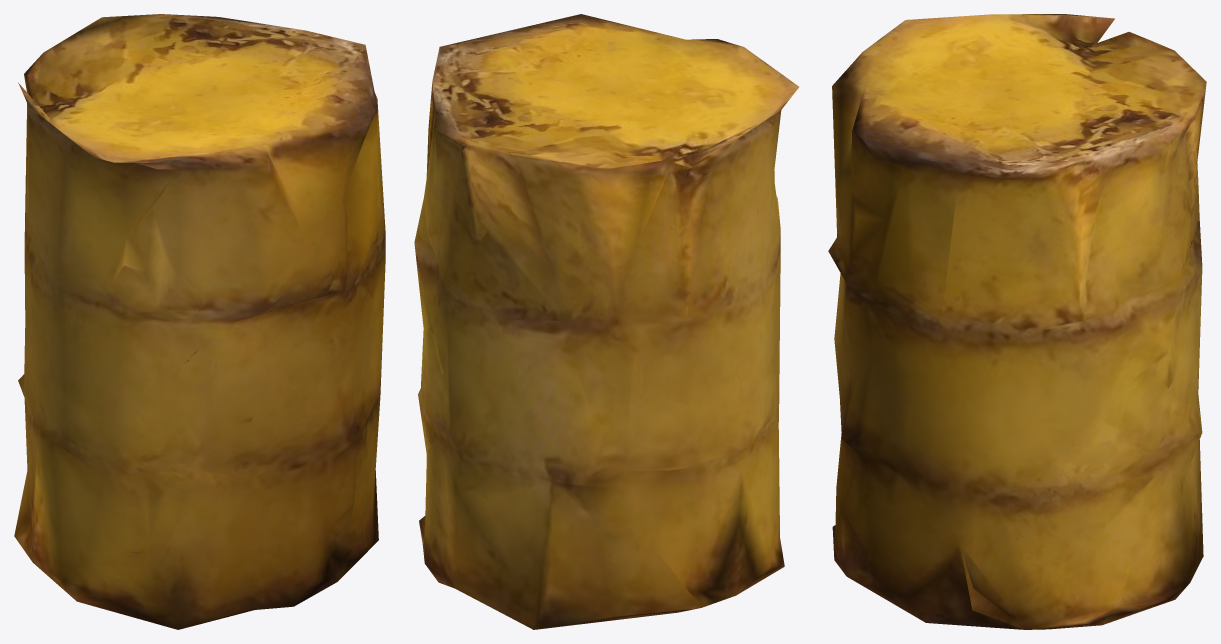
File: e_hazard.glb
The picture shows the model from 3 angles, left to right: view 1: azimuth 30°, elevation 25°; view 2: azimuth 150°, elevation 25°; view 3: azimuth 270°, elevation 25°; orthographic projection. The views are drawn at different scales.
Visible parts, largest first — view 1: tripo_node_3309a58d-68b8-41f5-880a-09d17e66bc21; view 2: tripo_node_3309a58d-68b8-41f5-880a-09d17e66bc21; view 3: tripo_node_3309a58d-68b8-41f5-880a-09d17e66bc21.
Part boxes in pixels (x1,y1,x2,y2): tripo_node_3309a58d-68b8-41f5-880a-09d17e66bc21: [14, 14, 385, 629]; tripo_node_3309a58d-68b8-41f5-880a-09d17e66bc21: [414, 14, 798, 629]; tripo_node_3309a58d-68b8-41f5-880a-09d17e66bc21: [828, 14, 1206, 629].
Bounding box in the file's own units: 0.6969 × 1 × 0.6996.
Materials: 1 (1 with a texture image).
